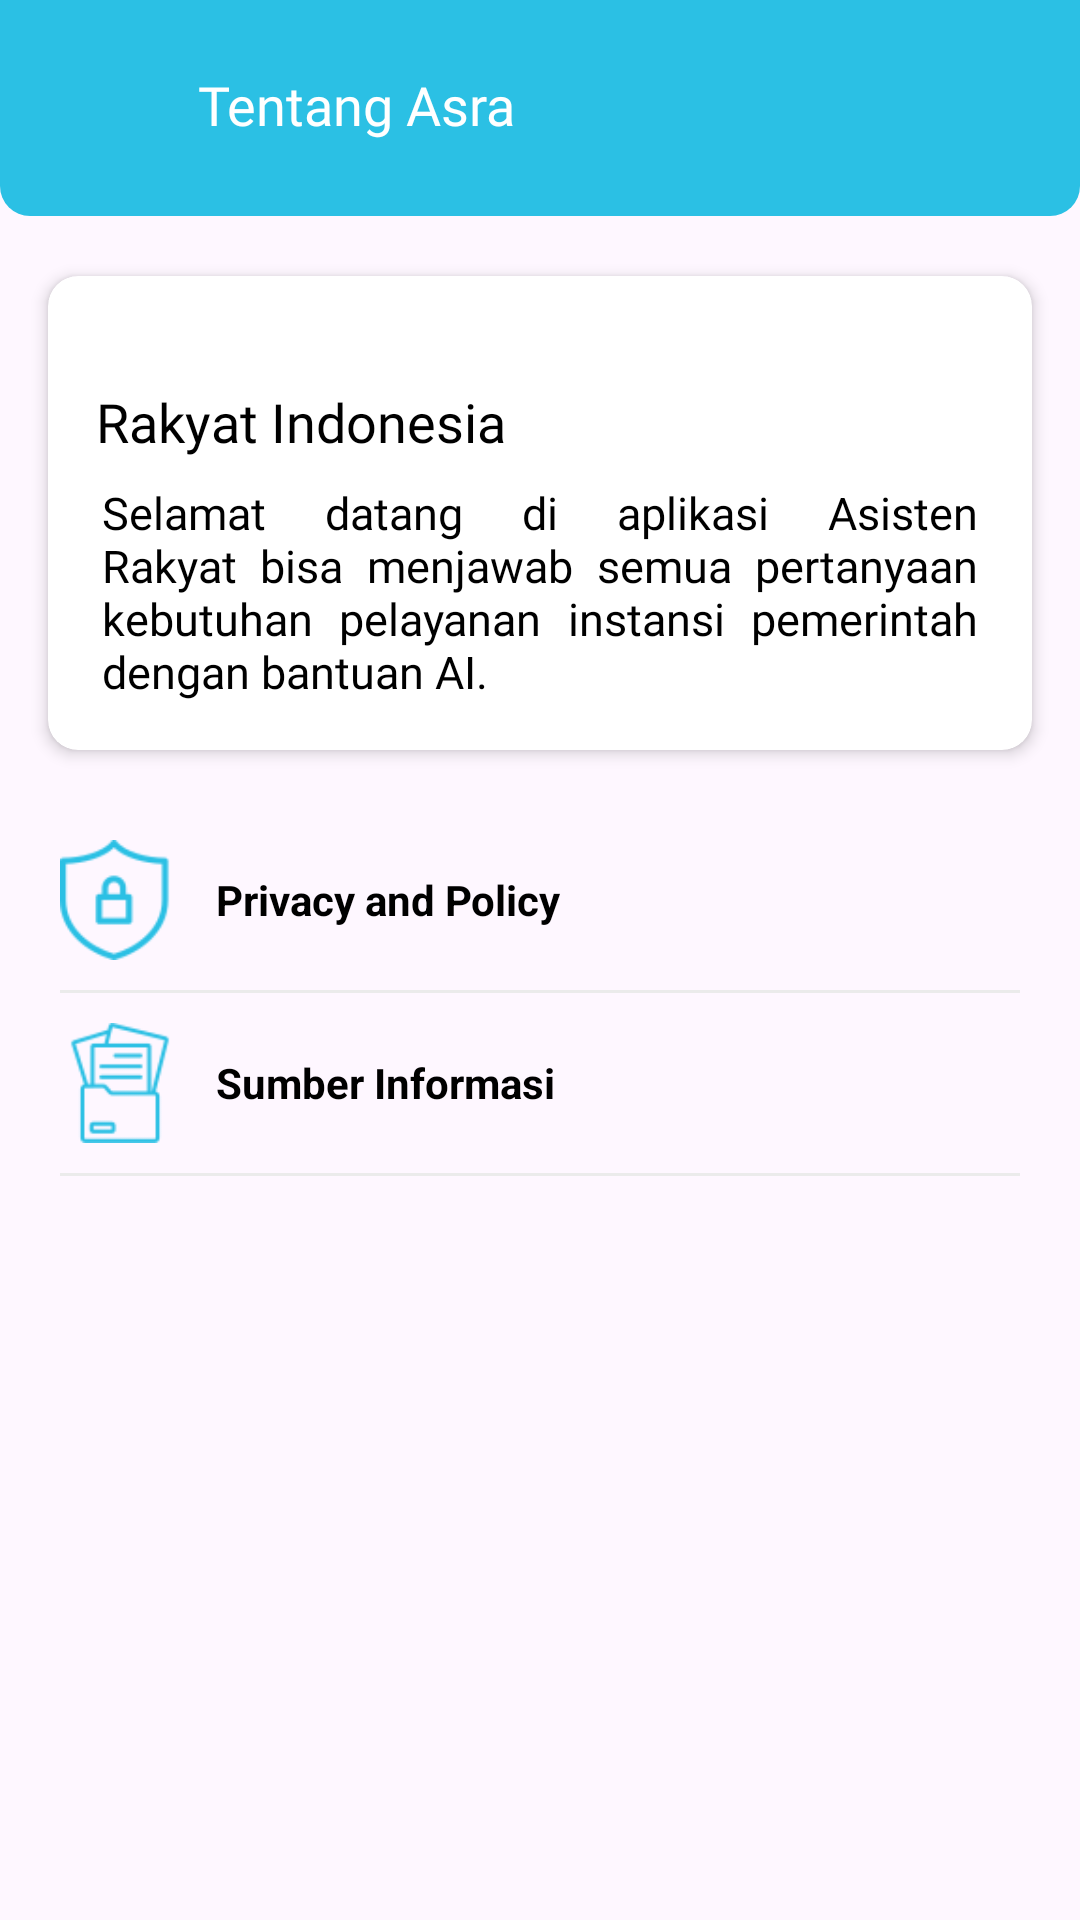

Where to tap for icons on this 1080 x 1920 app screen, as (x=x, y=y):
data source: (x=120, y=1083)
